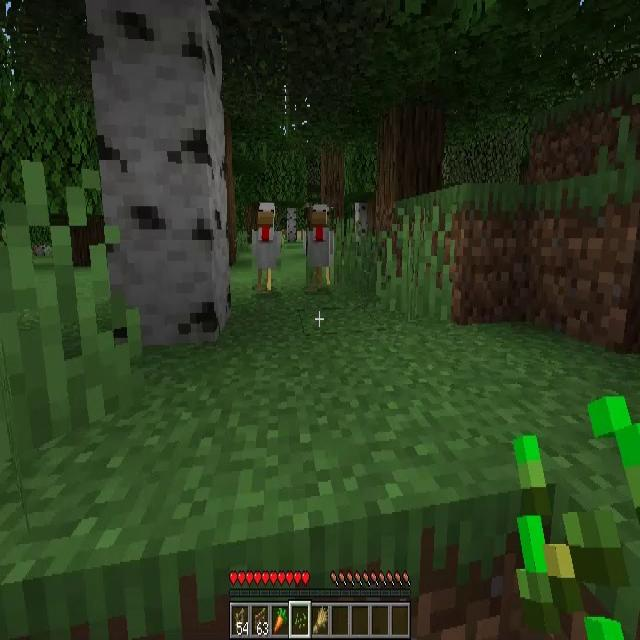duck: (252, 203, 281, 291), (306, 207, 334, 286)
